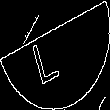L_N: (38, 26, 72, 84)
